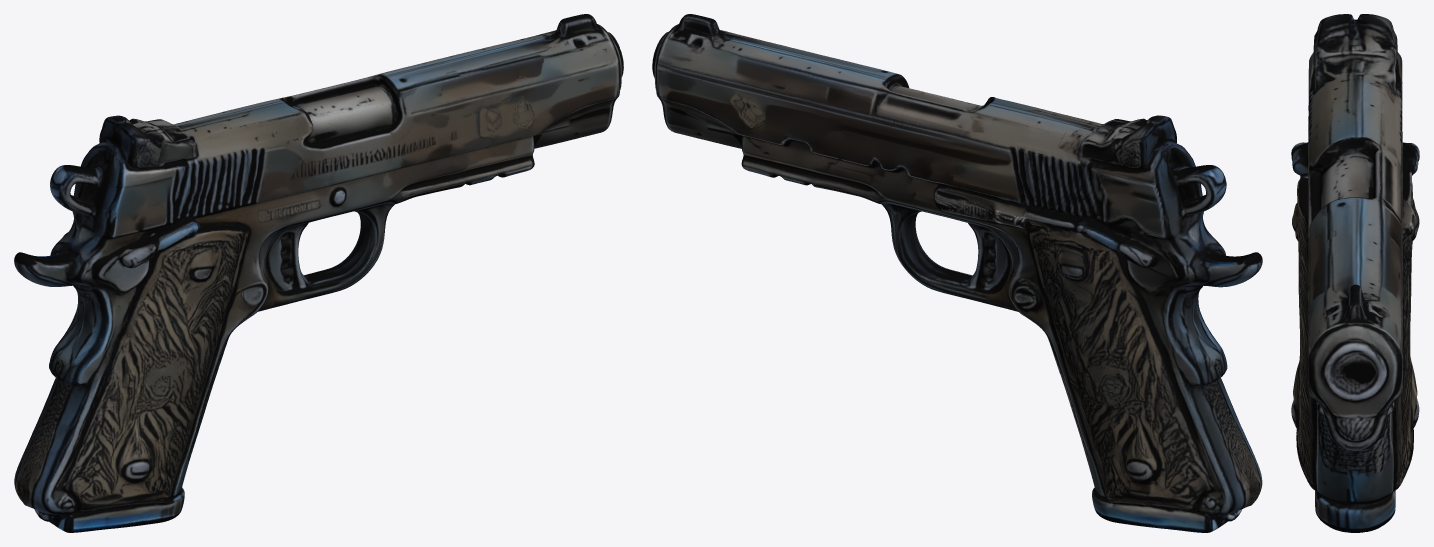
The model's file is Pistol.glb.
3 views of the same model, side by side, from view 1: azimuth 30°, elevation 25°; view 2: azimuth 150°, elevation 25°; view 3: azimuth 270°, elevation 25° (orthographic). The views are drawn at different scales.
Parts seen in each view (by area): view 1: world; view 2: world; view 3: world.
Boxes of the visible parts, <box> form: world: <box>14,14,623,532</box>; world: <box>652,14,1262,532</box>; world: <box>1291,14,1419,532</box>.
Size of the model in its own units: 1 by 0.6379 by 0.1524.
1 material, 1 textured.
